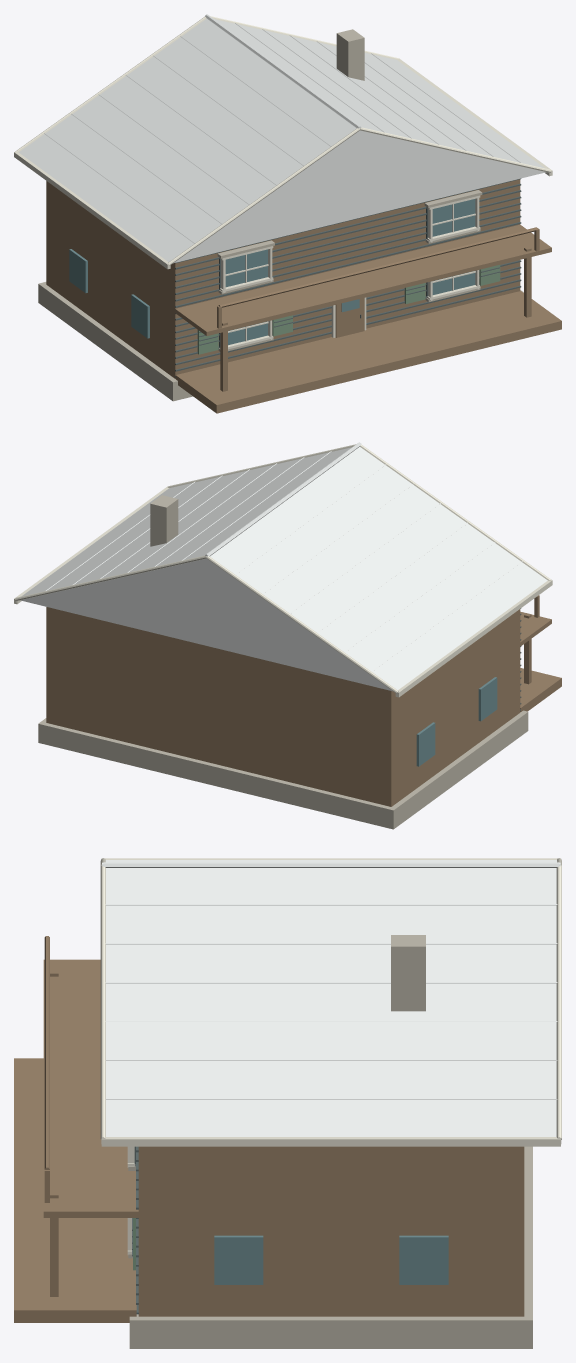
The picture shows the model from 3 angles, top to bottom: view 1: azimuth 30°, elevation 25°; view 2: azimuth 150°, elevation 25°; view 3: azimuth 270°, elevation 25°; orthographic projection. The views are drawn at different scales.
Size of the model in its own units: 18.96 by 11.22 by 15.62.
